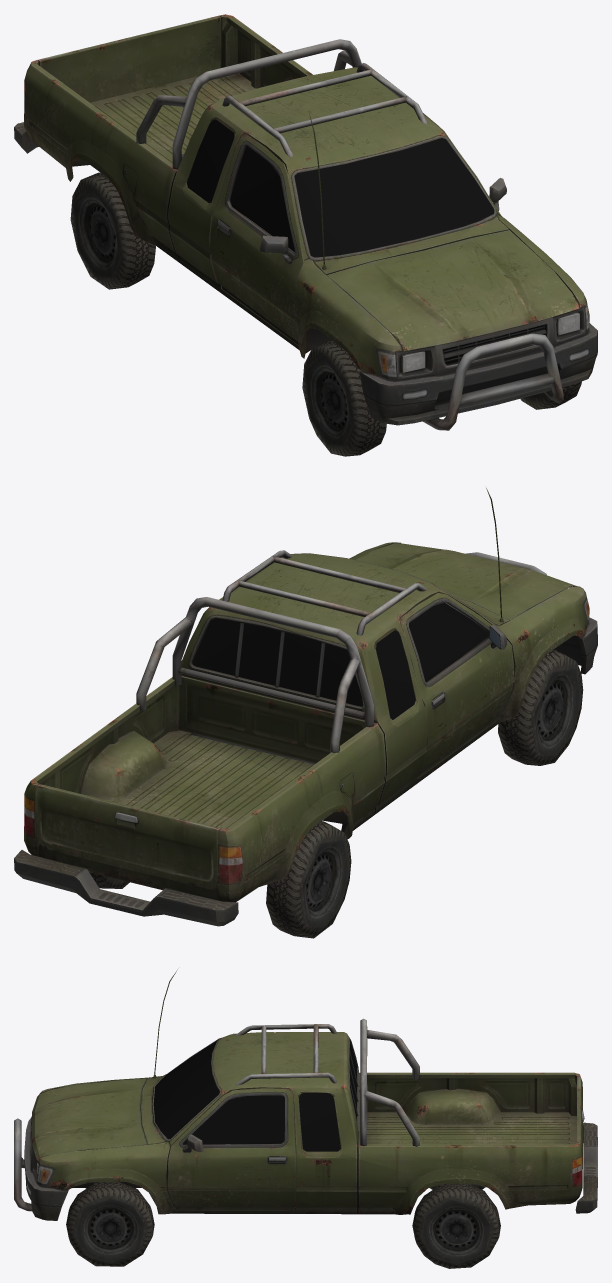
The model's file is pickup-truck-047615.glb.
3 views of the same model, one above another, from view 1: azimuth 30°, elevation 25°; view 2: azimuth 150°, elevation 25°; view 3: azimuth 270°, elevation 25° (orthographic). The views are drawn at different scales.
Visible parts, largest first — view 1: body, wheel-back-right, wheel-front-right, wheel-front-left; view 2: body, wheel-back-right, wheel-front-right; view 3: body, wheel-front-left, wheel-back-left.
Boxes of the visible parts, bbox=[...] form: body: bbox=[14, 14, 597, 430]; wheel-back-right: bbox=[70, 172, 155, 289]; wheel-front-right: bbox=[302, 340, 386, 456]; wheel-front-left: bbox=[520, 381, 581, 409]; body: bbox=[14, 488, 597, 926]; wheel-back-right: bbox=[266, 821, 351, 938]; wheel-front-right: bbox=[498, 649, 583, 765]; body: bbox=[14, 969, 597, 1220]; wheel-front-left: bbox=[66, 1182, 154, 1266]; wheel-back-left: bbox=[412, 1184, 500, 1268].
Size of the model in its own units: 2.18 by 2.61 by 6.01.
Materials: 2 (1 with a texture image).
